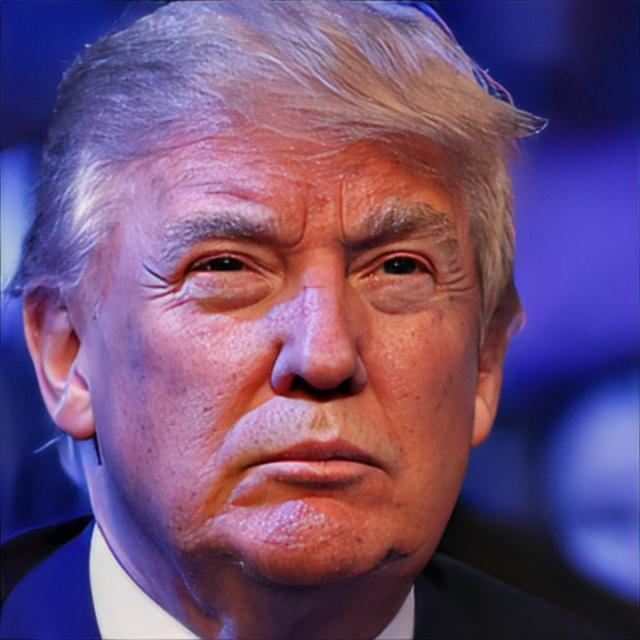anger: (95, 58, 482, 592)
